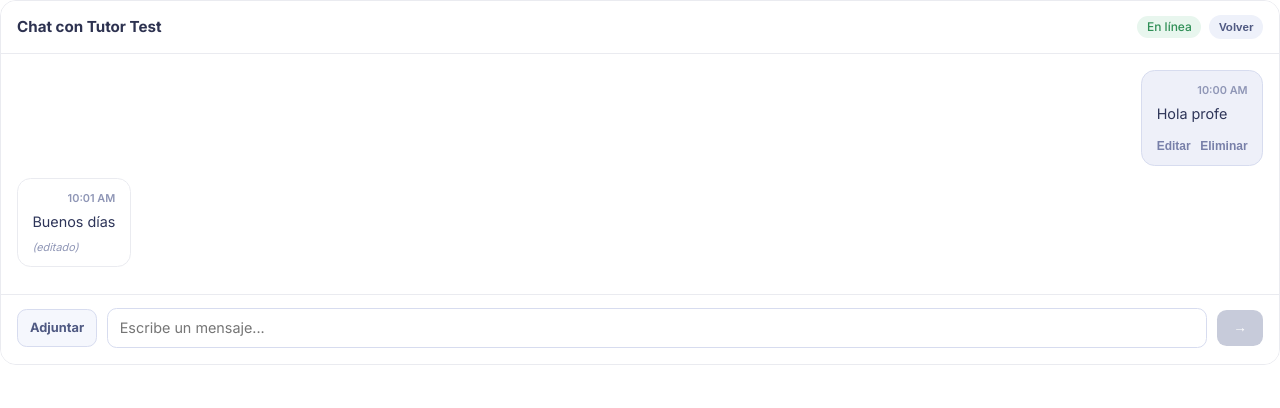
Test: PrivateChat › cancels edit when clicking Cancelar
Expected: the text "Hola profe" is shown, 1157,105 -> 1227,122
Click the button "Editar": point(1174, 146) 1157,139 -> 1191,153
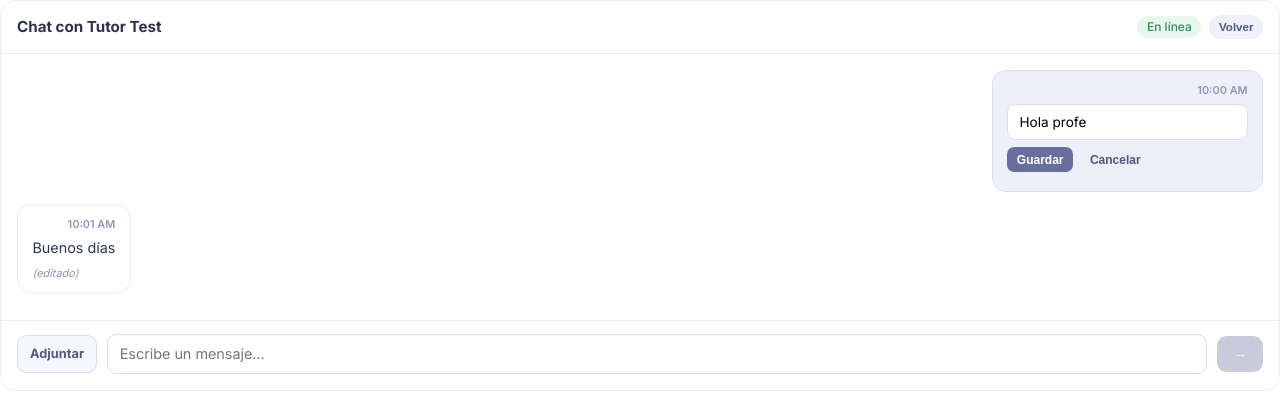
Click the button "Cancelar": point(1115, 160) 1080,147 -> 1150,172
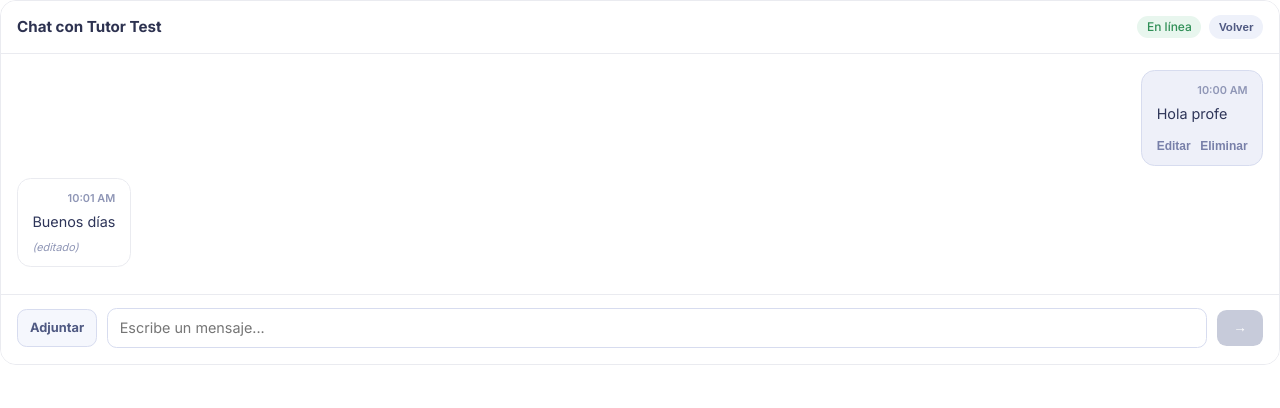
Expected: the button "Guardar" is gone
